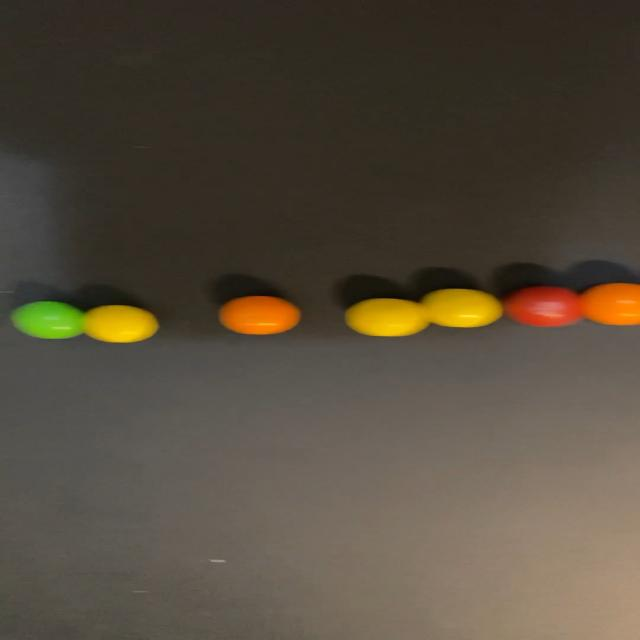smartie: (504, 286, 584, 327), (421, 289, 503, 328), (345, 298, 429, 336), (218, 296, 299, 334), (82, 305, 158, 343), (9, 301, 82, 339), (580, 283, 640, 325)
